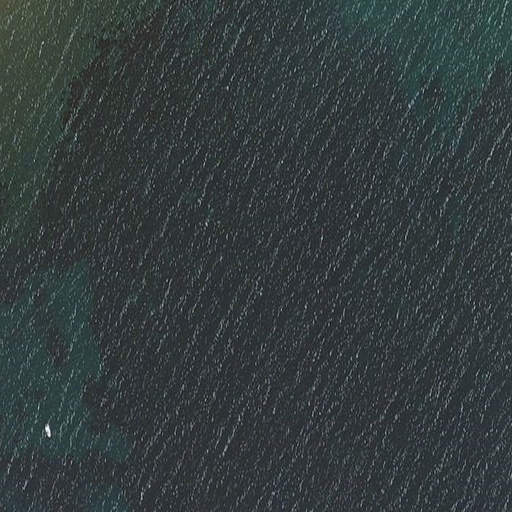ship: (43, 424, 52, 439)
